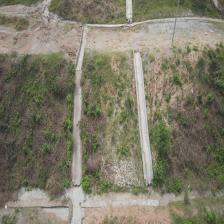rock toe: (107, 160, 140, 185)
slope drain: (70, 25, 88, 189), (134, 52, 153, 186)
